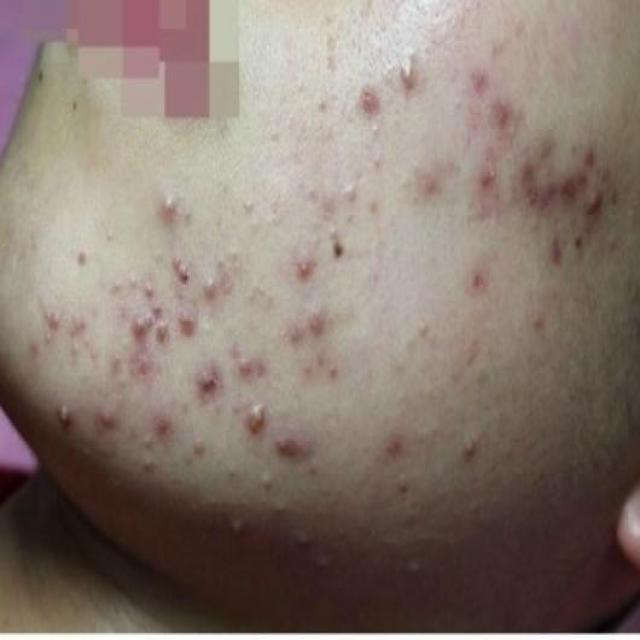8: (264, 419, 312, 468), (472, 146, 511, 200), (192, 353, 225, 408), (483, 86, 518, 136), (297, 310, 347, 344), (283, 249, 326, 283), (123, 319, 157, 359), (373, 425, 407, 463), (92, 400, 123, 440), (60, 301, 90, 341), (178, 428, 210, 464), (147, 407, 175, 447), (230, 344, 260, 381), (180, 308, 194, 358)
9: (390, 43, 426, 111), (145, 183, 186, 231), (239, 398, 275, 439), (48, 396, 78, 434)
blackheads: (518, 168, 598, 218)
